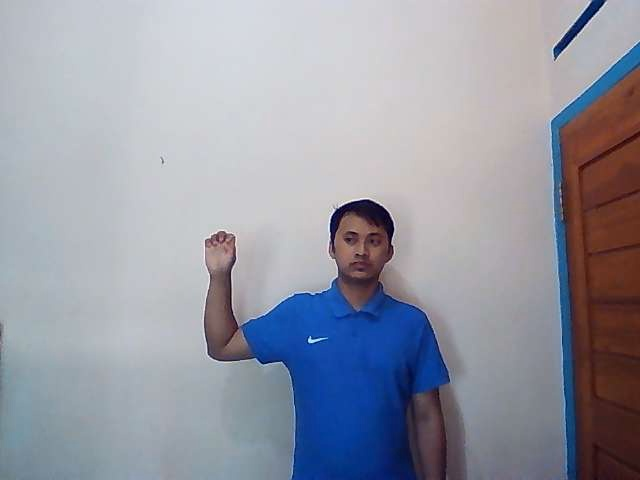E: (203, 229, 238, 277)
